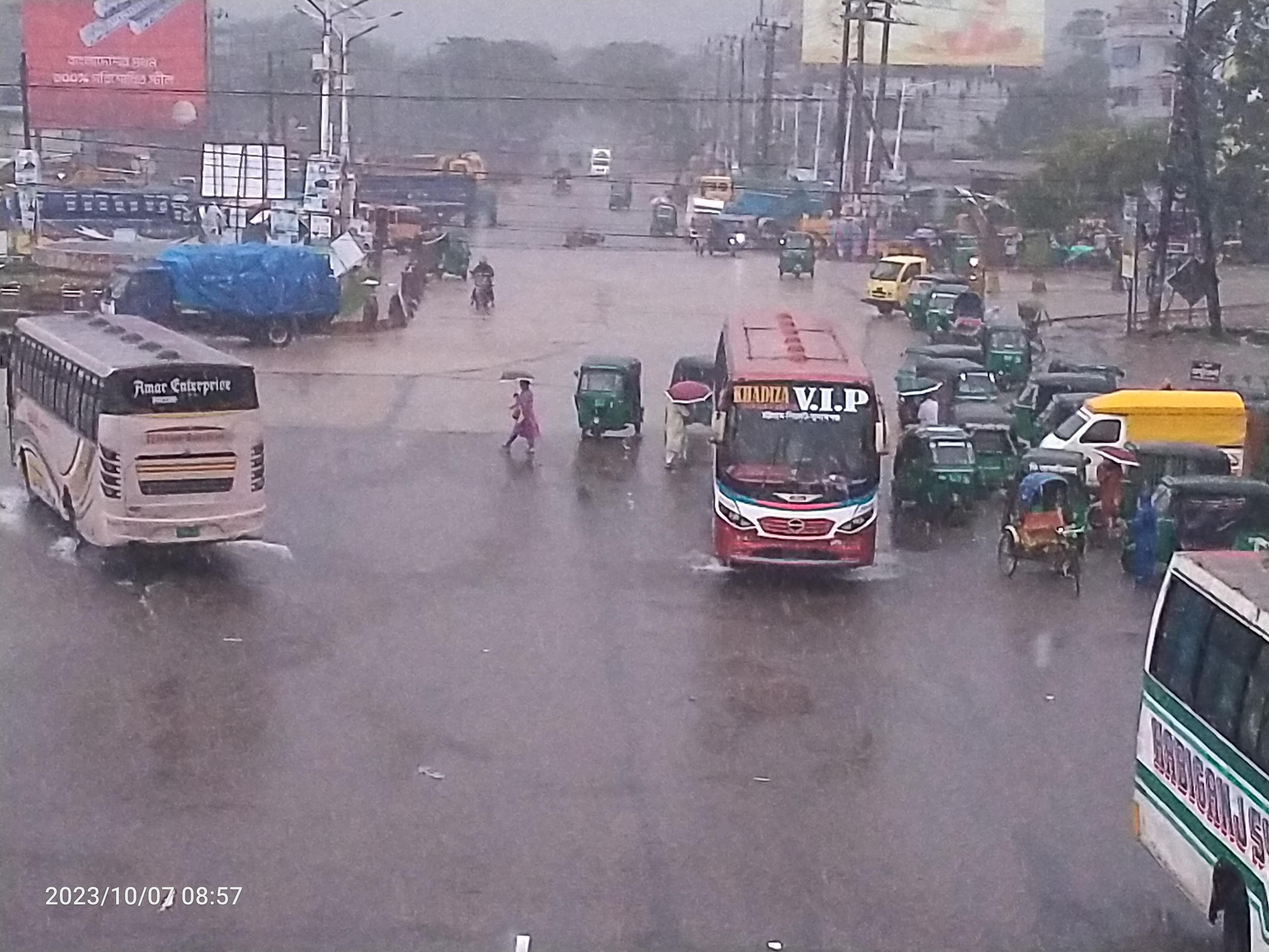Bike: (461, 255, 508, 316)
Bus: (0, 305, 281, 583), (674, 291, 898, 610), (1115, 523, 1269, 952), (0, 158, 230, 264)
Car: (986, 458, 1110, 630)
Truck: (59, 235, 343, 359), (328, 139, 482, 225), (857, 241, 988, 320)
